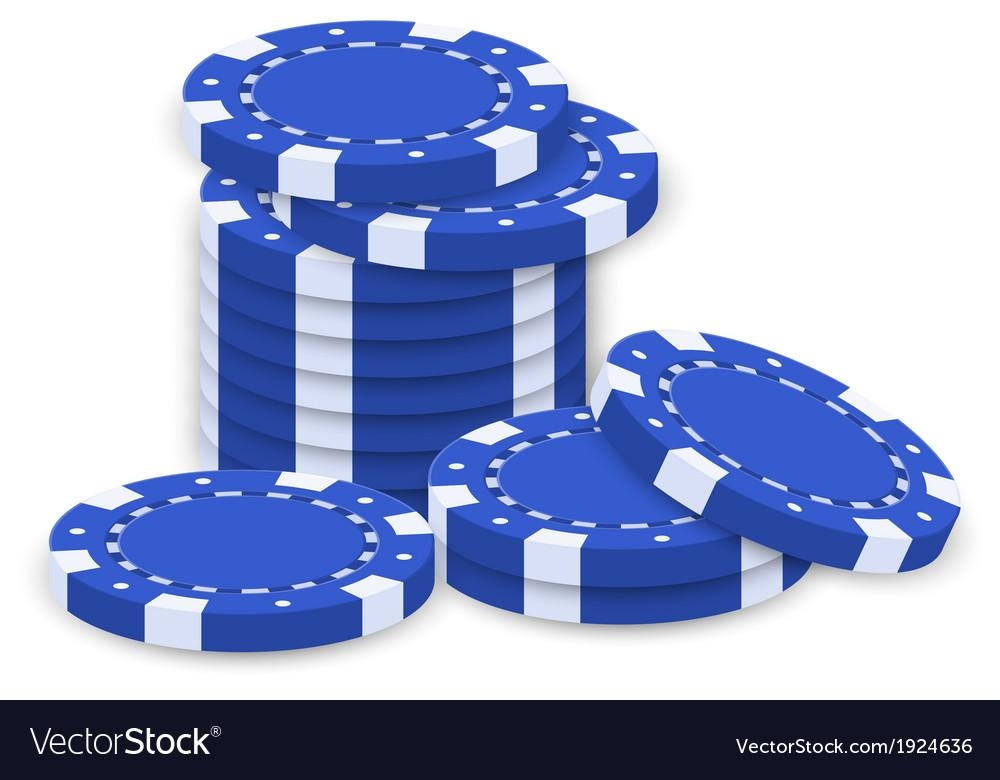chip-blue: (592, 332, 959, 572), (428, 406, 809, 623), (184, 21, 568, 203), (49, 471, 434, 651), (266, 102, 658, 271), (201, 172, 516, 302), (203, 356, 584, 453), (217, 285, 584, 377), (217, 322, 584, 414), (436, 543, 809, 624), (209, 260, 584, 340), (203, 404, 437, 491)
